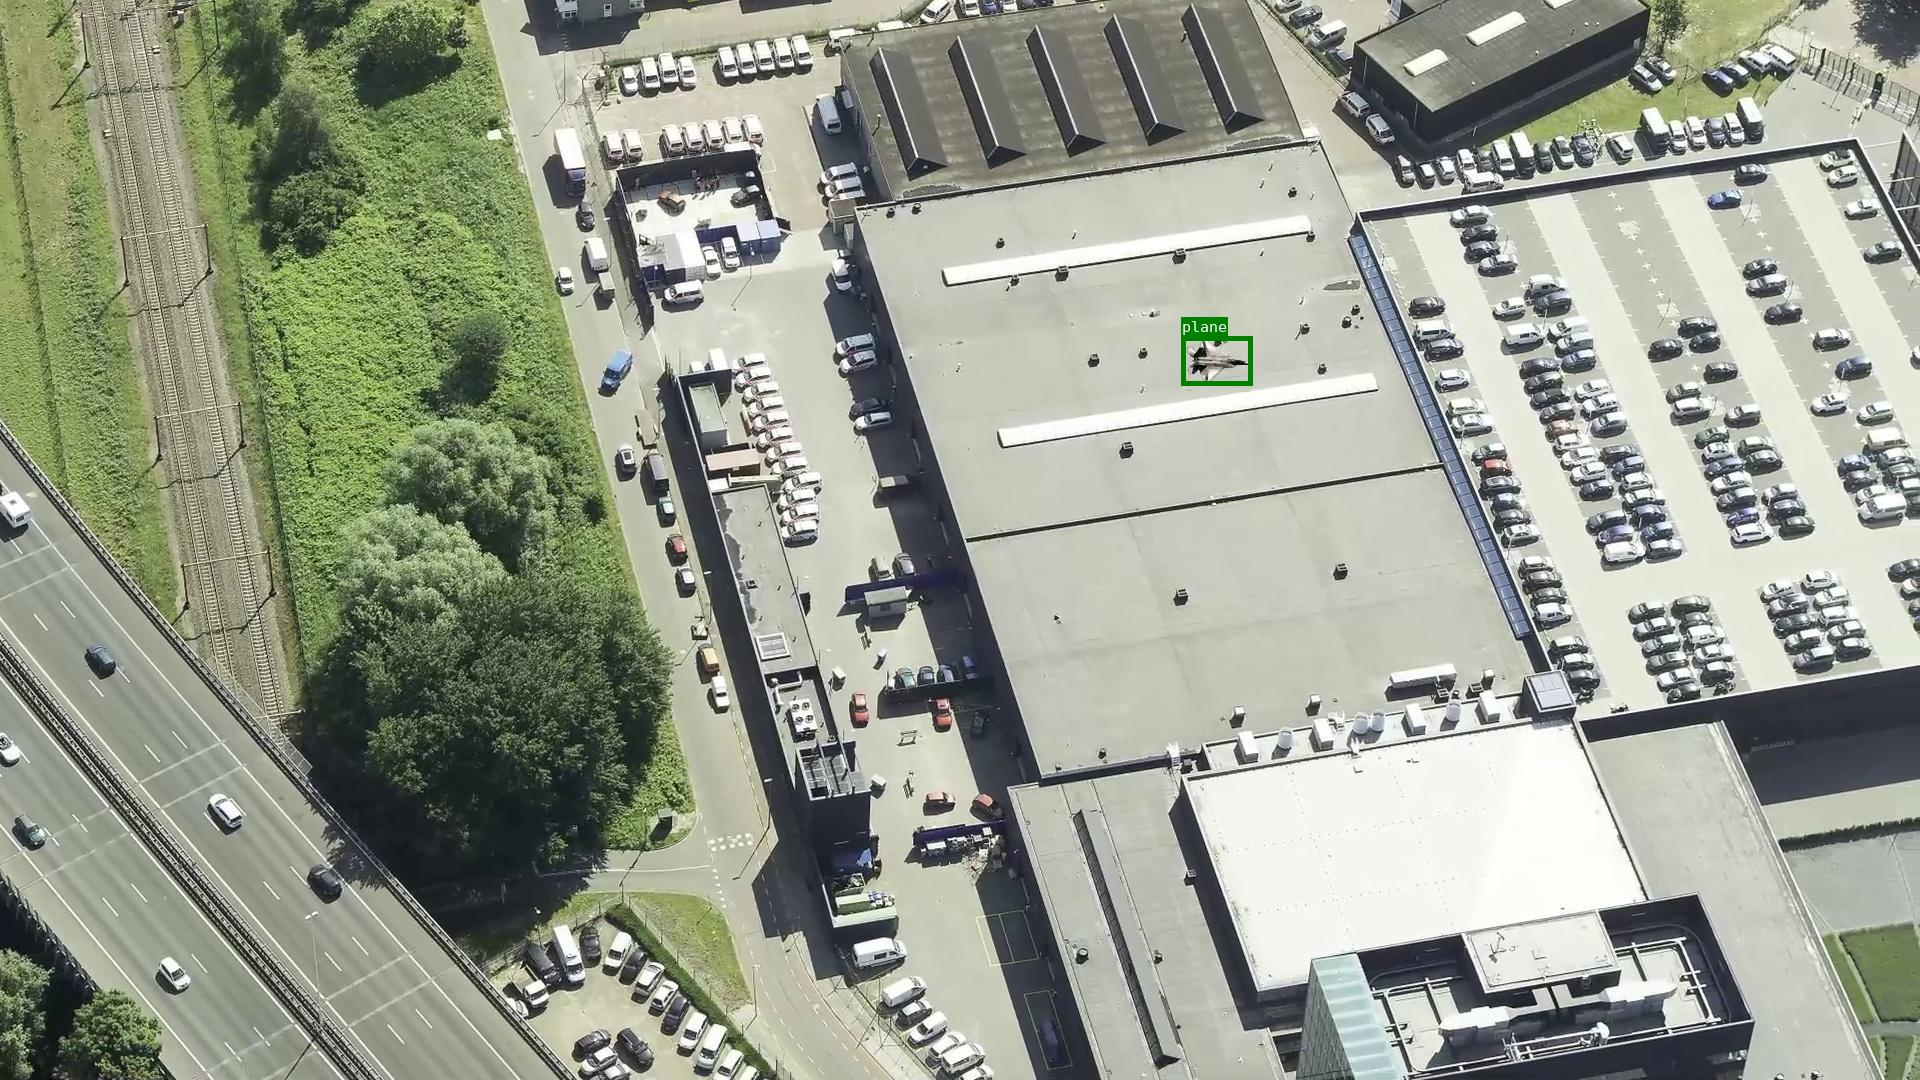plane: (1182, 336, 1251, 385)
